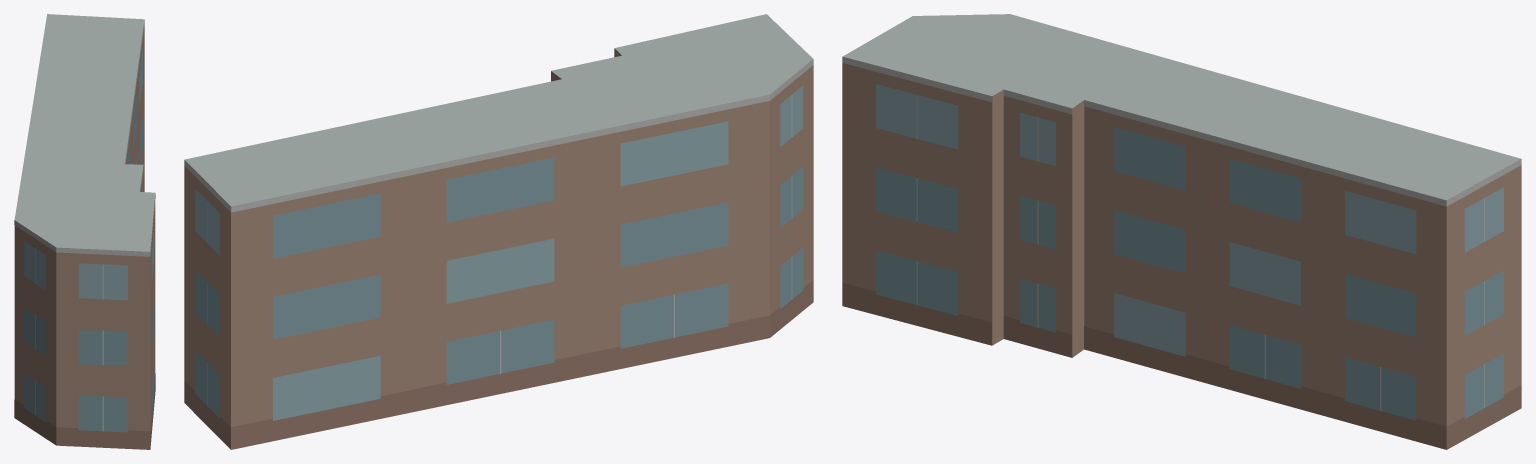
The model's file is survey-upis-32691213.glb.
3 views of the same model, side by side, from view 1: azimuth 30°, elevation 25°; view 2: azimuth 150°, elevation 25°; view 3: azimuth 270°, elevation 25° (orthographic). The views are drawn at different scales.
Visible parts, largest first — view 1: survey-upis-32691213.tmp; view 2: survey-upis-32691213.tmp; view 3: survey-upis-32691213.tmp.
Boxes of the visible parts, box(x1,y1,x2,y2) form: survey-upis-32691213.tmp: box(14, 14, 155, 449); survey-upis-32691213.tmp: box(184, 14, 813, 449); survey-upis-32691213.tmp: box(842, 14, 1521, 449).
Size of the model in its own units: 15.71 by 9.8 by 24.19.
